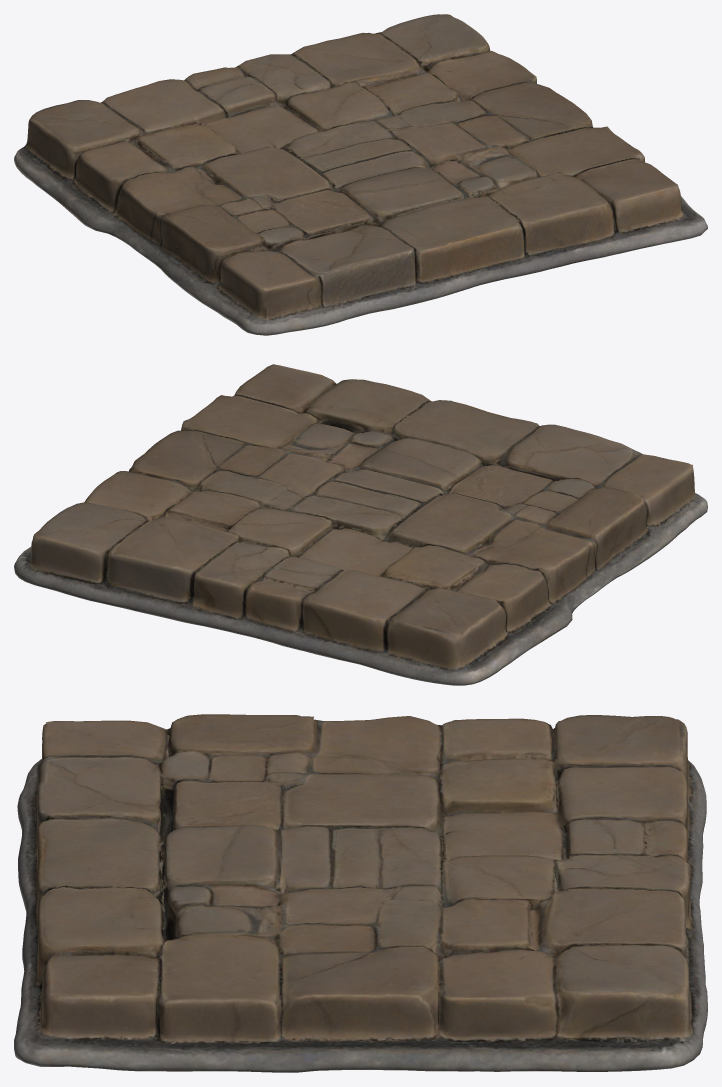
File: Meshy_AI_Cobblestone_Pathway_0217162825_texture.glb
3 renders of one model, top to bottom at view 1: azimuth 30°, elevation 25°; view 2: azimuth 150°, elevation 25°; view 3: azimuth 270°, elevation 25°, orthographic. The views are drawn at different scales.
Visible parts, largest first — view 1: Mesh0; view 2: Mesh0; view 3: Mesh0.
Part boxes in pixels (x1=…): Mesh0: x1=14, y1=14, x2=707, y2=335; Mesh0: x1=14, y1=364, x2=707, y2=685; Mesh0: x1=14, y1=714, x2=707, y2=1072.
Size of the model in its own units: 1.9 by 0.1817 by 1.78.
Materials: 1 (1 with a texture image).
